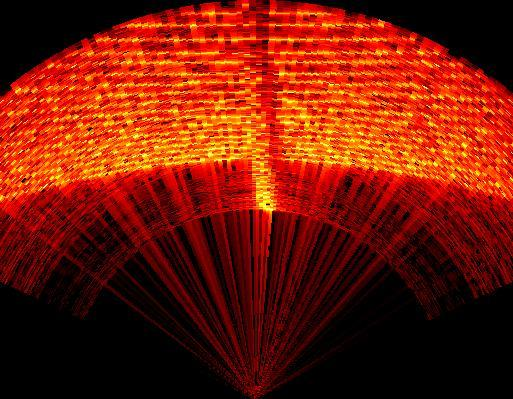pipe: (232, 2, 287, 220)
